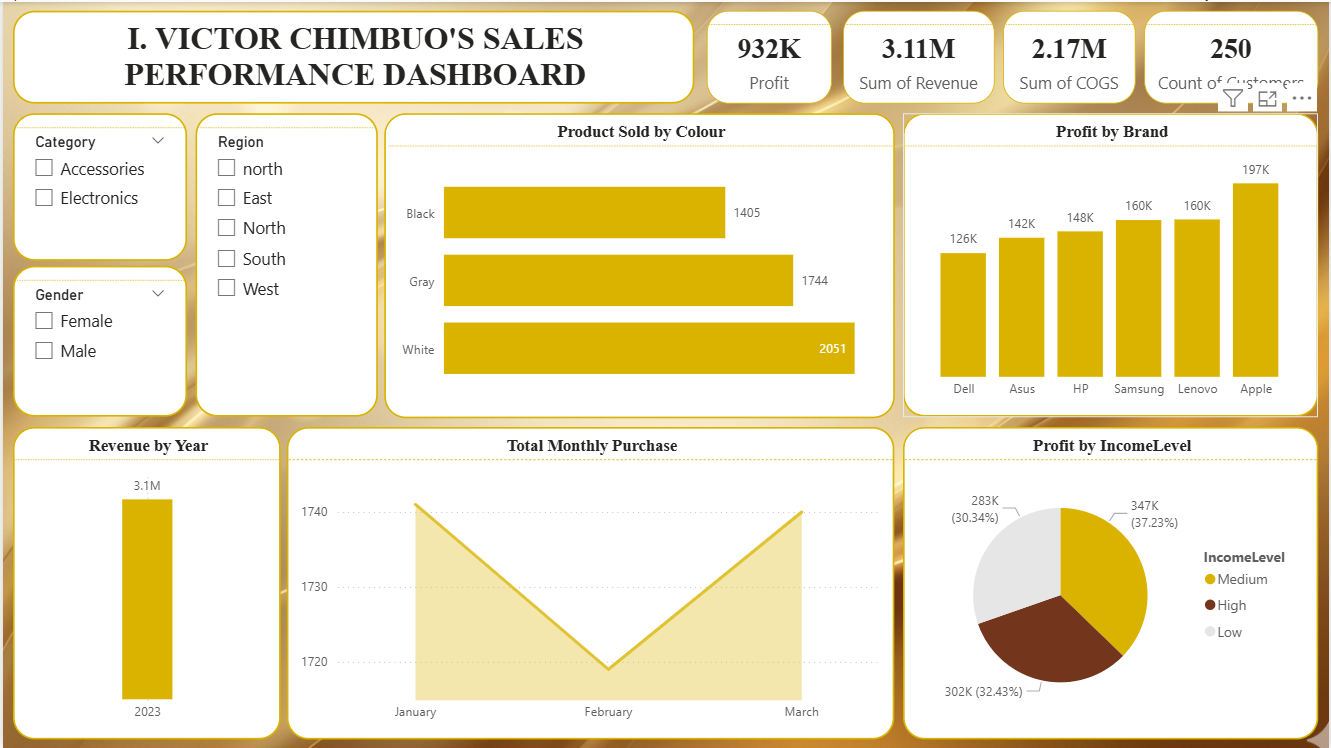

Layout of this report page (visuals, bound fields, positions):
{"tool":"powerbi","page":{"name":"Dashboard","canvas":[1280,720],"ordinal":0},"visuals":[{"type":"card","fields":{"Values":["CountNonNull(Customers.CustomerID)"]},"box":[1101.5,8.4,167.7,89.3],"z":0},{"type":"card","fields":{"Values":["Sum(Sales.COGS)"]},"box":[965.2,8.4,127.9,89.3],"z":1000},{"type":"card","fields":{"Values":["Sales.Profit"]},"box":[679.2,8.4,120.6,89.3],"z":2000},{"type":"card","fields":{"Values":["Sum(Sales.Revenue)"]},"box":[810.7,8.4,146,89.3],"z":3000},{"type":"textbox","title":" I. VICTOR CHIMBUO''S SALES PERFORMANCE DASHBOARD","box":[9.7,8.4,657.5,89.3],"z":4000},{"type":"clusteredColumnChart","fields":{"Category":["Products.Brand"],"Y":["Sales.Profit"]},"box":[868.6,107.4,400.5,293.2],"z":5000},{"type":"clusteredBarChart","title":"Product Sold by Colour","fields":{"Category":["Products.Color"],"Y":["Sales.Total Purchase"]},"box":[368,107.4,493,294.4],"z":6000},{"type":"clusteredColumnChart","title":"Revenue by Year","fields":{"Category":["Sales.SaleDate.Variation.Date Hierarchy.Year"],"Y":["Sum(Sales.Revenue)"]},"box":[9.7,410.2,258,301.6],"z":7000},{"type":"pieChart","fields":{"Category":["Customers.IncomeLevel"],"Y":["Sales.Profit"]},"box":[868.6,410.2,400.5,301.6],"z":8000},{"type":"stackedAreaChart","title":"Total Monthly Purchase","fields":{"Category":["Sales.SaleDate.Variation.Date Hierarchy.Month"],"Y":["Sales.Total Purchase"]},"box":[273.9,410.2,586,301.6],"z":9000},{"type":"slicer","fields":{"Values":["Products.Category"]},"box":[9.7,107.4,167.7,142.4],"z":10000},{"type":"slicer","fields":{"Values":["Customers.Region"]},"box":[185.8,107.4,176.1,293.2],"z":11000},{"type":"slicer","fields":{"Values":["Customers.Gender"]},"box":[9.7,254.6,167.7,146],"z":12000}]}

Visuals, with their boxes in screenshot pixels (x1, y1, x2, y2), scaled from the page's 1280x720 canvas onto the 1331x748 screenshot:
card - CountNonNull(Customers.CustomerID): BBox(1145, 9, 1320, 101)
card - Sum(Sales.COGS): BBox(1004, 9, 1137, 101)
card - Sales.Profit: BBox(706, 9, 832, 101)
card - Sum(Sales.Revenue): BBox(843, 9, 995, 101)
" I. VICTOR CHIMBUO''S SALES PERFORMANCE DASHBOARD" textbox: BBox(10, 9, 694, 101)
clusteredColumnChart - Products.Brand x Sales.Profit: BBox(903, 112, 1320, 416)
"Product Sold by Colour" clusteredBarChart: BBox(383, 112, 895, 417)
"Revenue by Year" clusteredColumnChart: BBox(10, 426, 278, 739)
pieChart - Customers.IncomeLevel x Sales.Profit: BBox(903, 426, 1320, 739)
"Total Monthly Purchase" stackedAreaChart: BBox(285, 426, 894, 739)
slicer - Products.Category: BBox(10, 112, 184, 260)
slicer - Customers.Region: BBox(193, 112, 376, 416)
slicer - Customers.Gender: BBox(10, 265, 184, 416)
